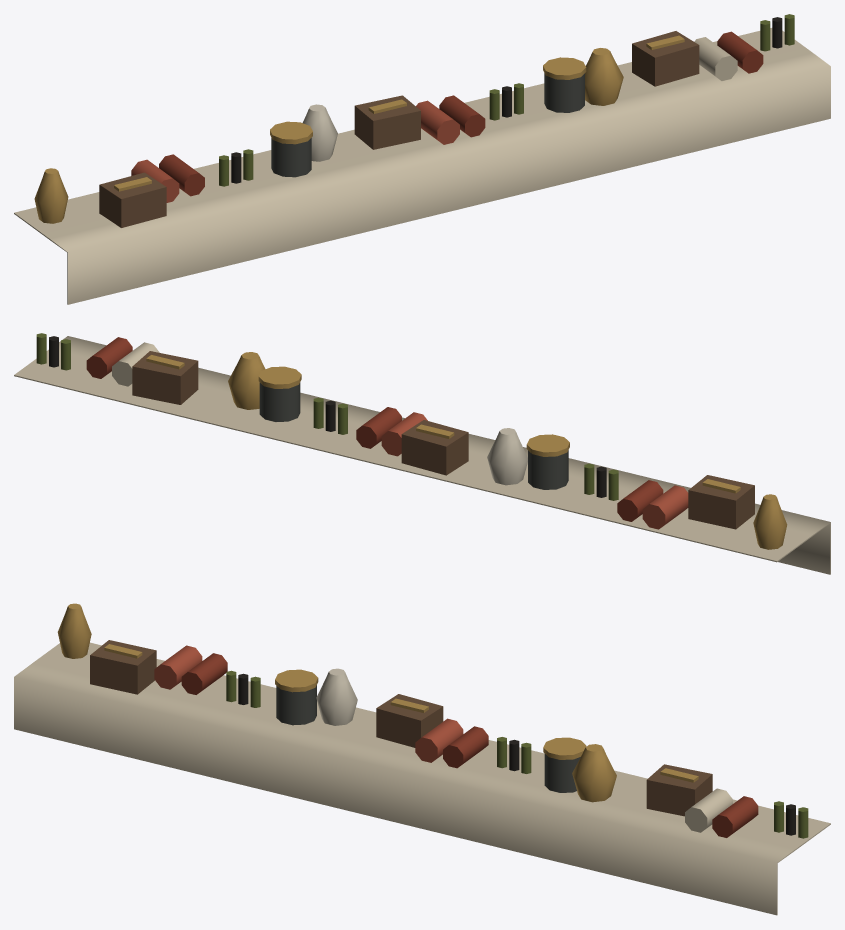
Rendered from goods_general.glb.
3 renders of one model, top to bottom at view 1: azimuth 30°, elevation 25°; view 2: azimuth 150°, elevation 25°; view 3: azimuth 330°, elevation 25°, orthographic.
Parts seen in each view (by area): view 1: goods_general; view 2: goods_general; view 3: goods_general.
Boxes of the visible parts, x1=… form: goods_general: x1=14, y1=14, x2=830, y2=304; goods_general: x1=14, y1=333, x2=830, y2=574; goods_general: x1=14, y1=603, x2=830, y2=915.
Bounding box in the file's own units: 6.9 × 0.865 × 0.845.
